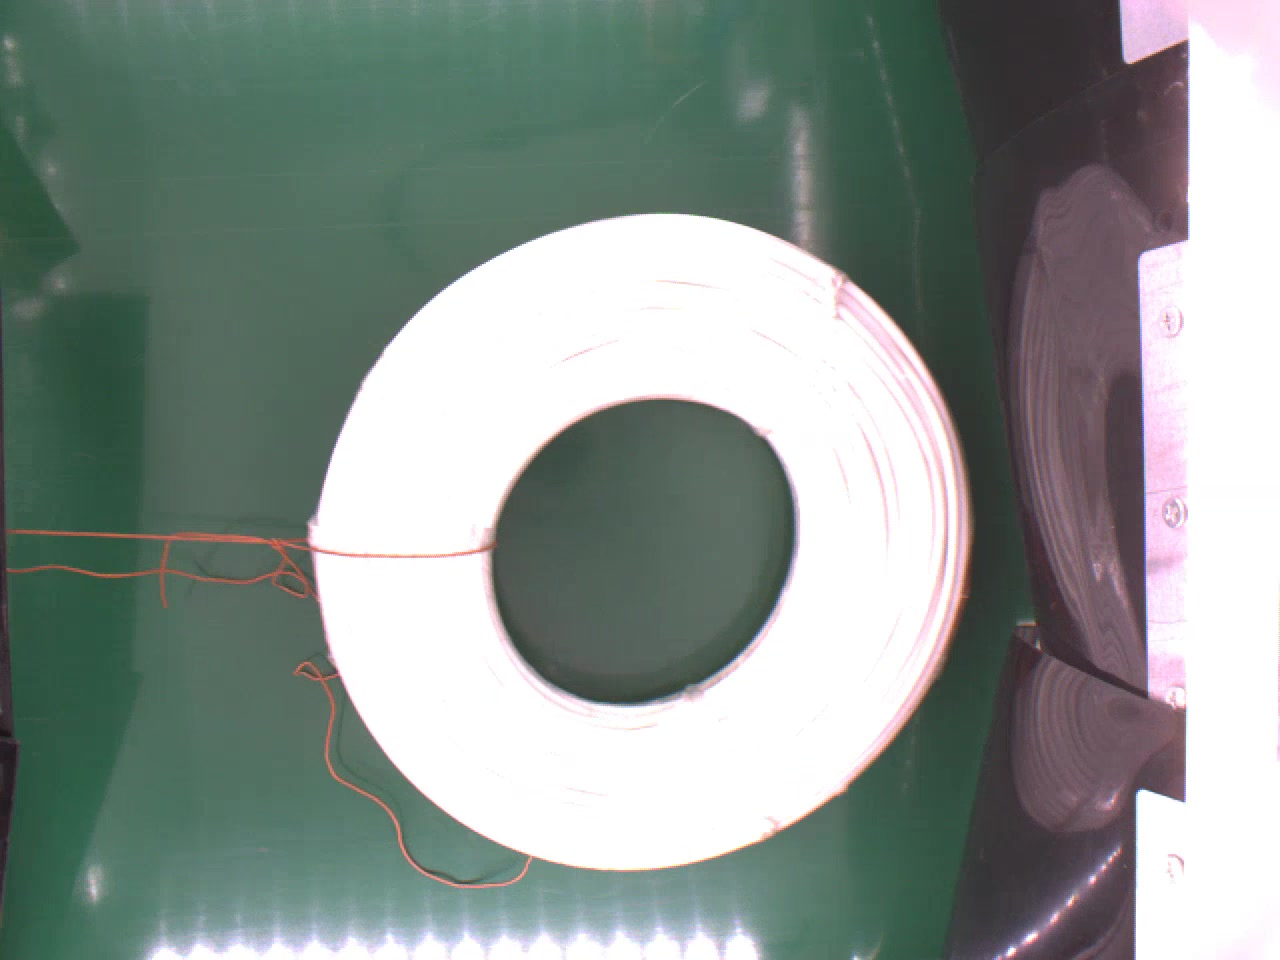white: (307, 208, 976, 879)
